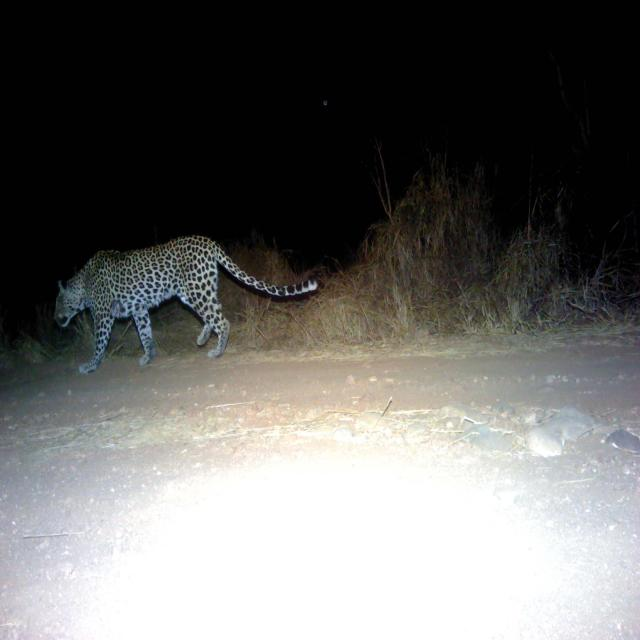Leopard: (44, 235, 333, 367)
